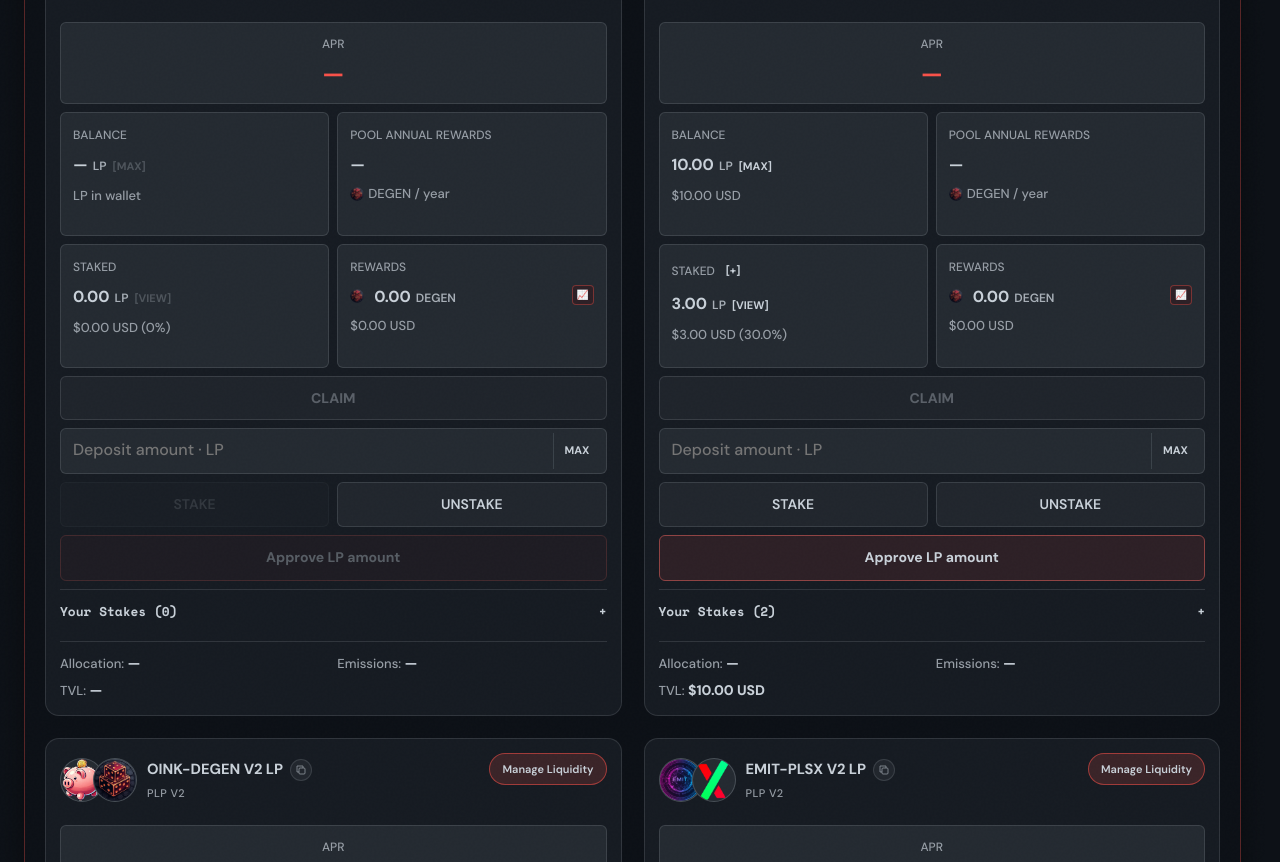
Test: farm position management › rechecks the live balance and refuses a deposit authorized only by the cached snapshot
The image size is (1280, 862).
(page scrolled)
Step 1. Type "3" into the number field with placeholder "Deposit amount · LP" below "$3.00 USD (30.0%)" → (932, 451), box top-left (658, 428), bottom-right (1205, 474)
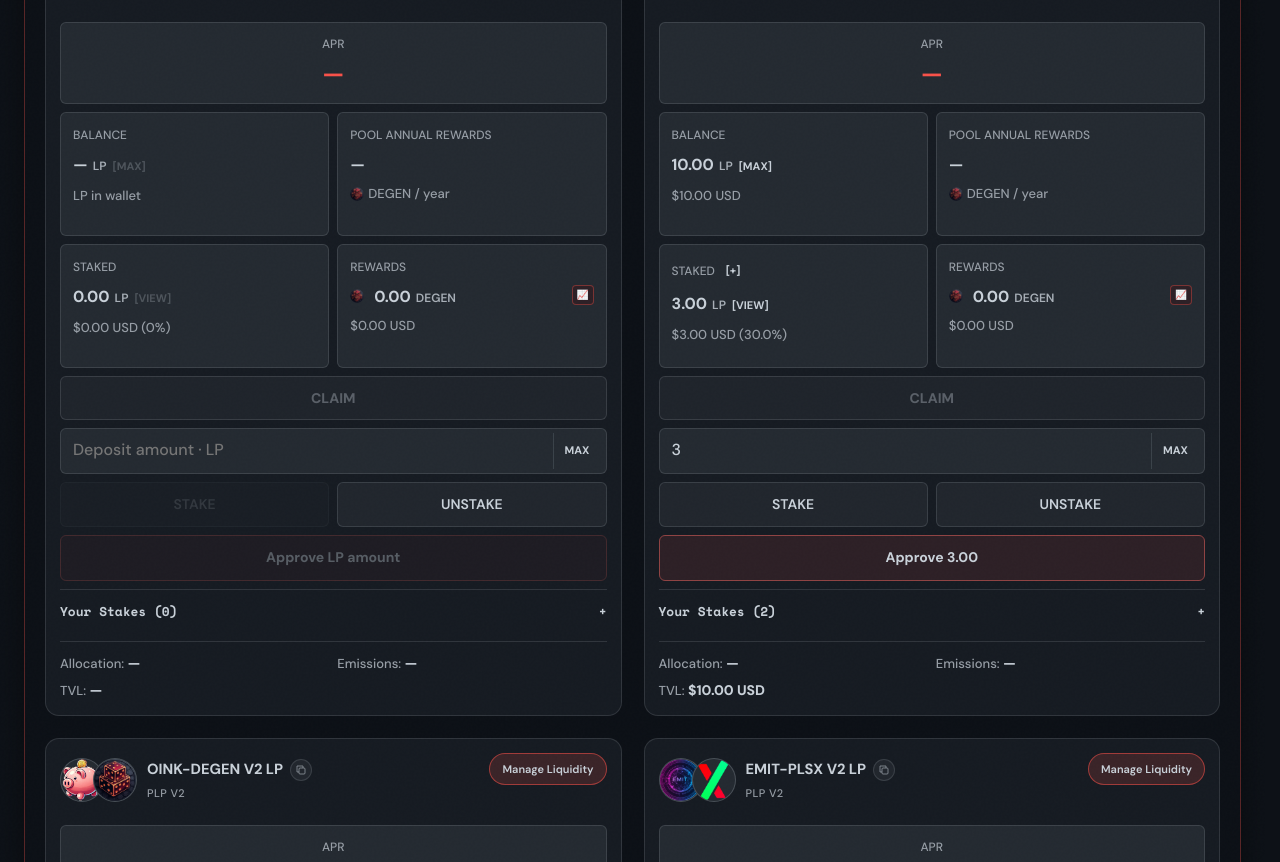
Step 2. Click the button with aria-label "Create New Stake" → (793, 504), box top-left (658, 482), bottom-right (928, 527)
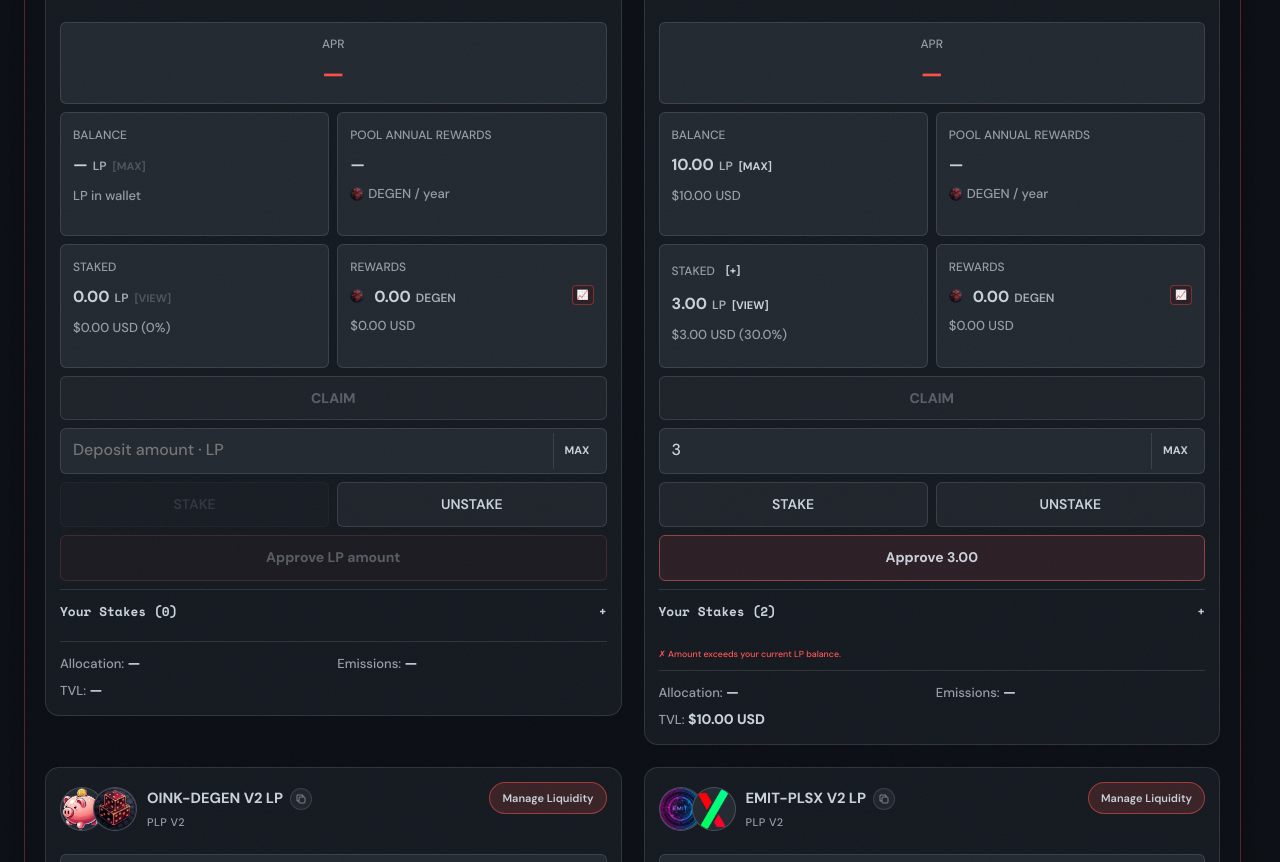
Result: the text "✗ Amount exceeds your current LP balance." is shown at top-left (658, 648), bottom-right (841, 660)
